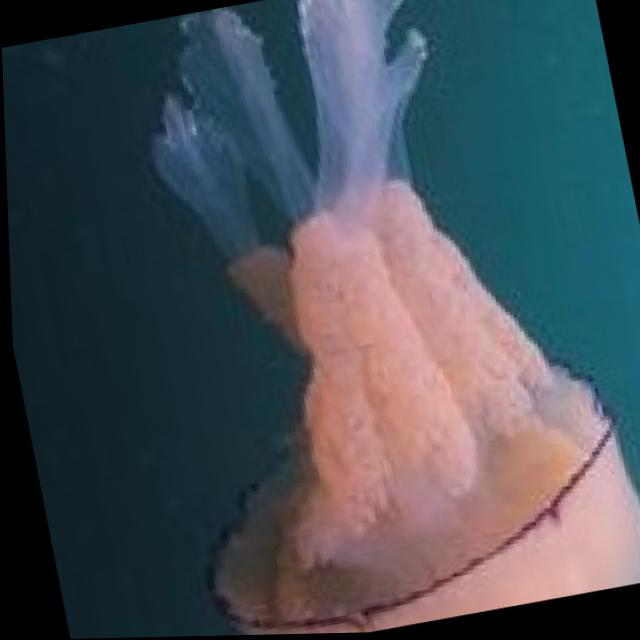Box-jellyfish: (101, 0, 640, 638)
